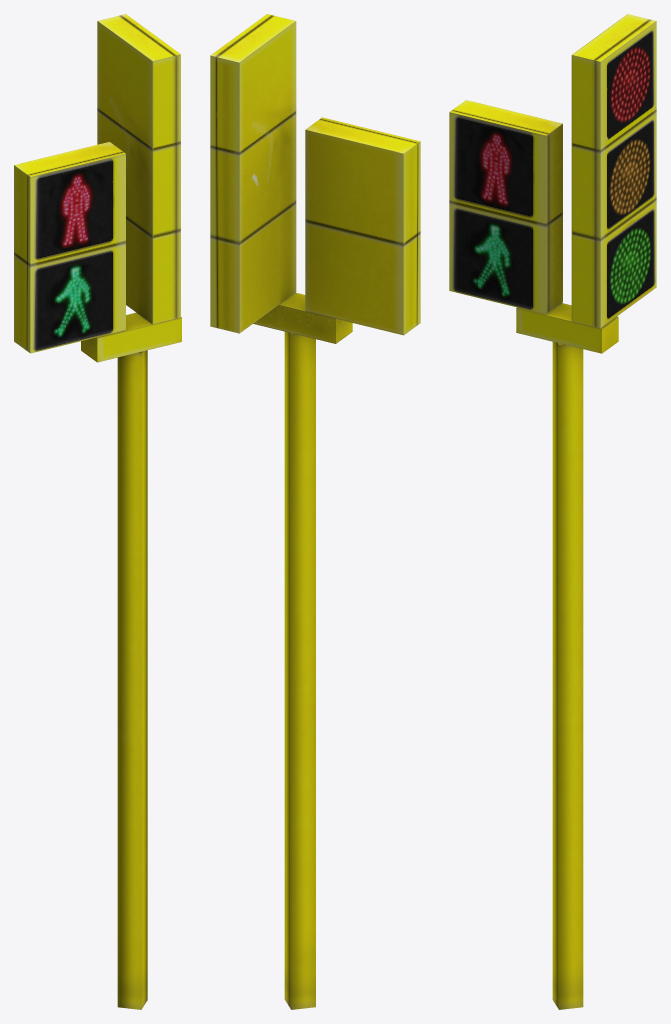
File: trafficlight_c.FBX
3 views of the same model, side by side, from view 1: azimuth 30°, elevation 25°; view 2: azimuth 150°, elevation 25°; view 3: azimuth 330°, elevation 25° (orthographic). The views are drawn at different scales.
Visible parts, largest first — view 1: prop_trafficlightC_LOD0; view 2: prop_trafficlightC_LOD0; view 3: prop_trafficlightC_LOD0.
Part boxes in pixels (left/top/right/bottom): prop_trafficlightC_LOD0: left=14, top=14, right=181, bottom=1009; prop_trafficlightC_LOD0: left=210, top=14, right=420, bottom=1009; prop_trafficlightC_LOD0: left=449, top=14, right=656, bottom=1009.
Size of what is drawn, in the model's own units: 0.5788 by 3.46 by 0.3708.
